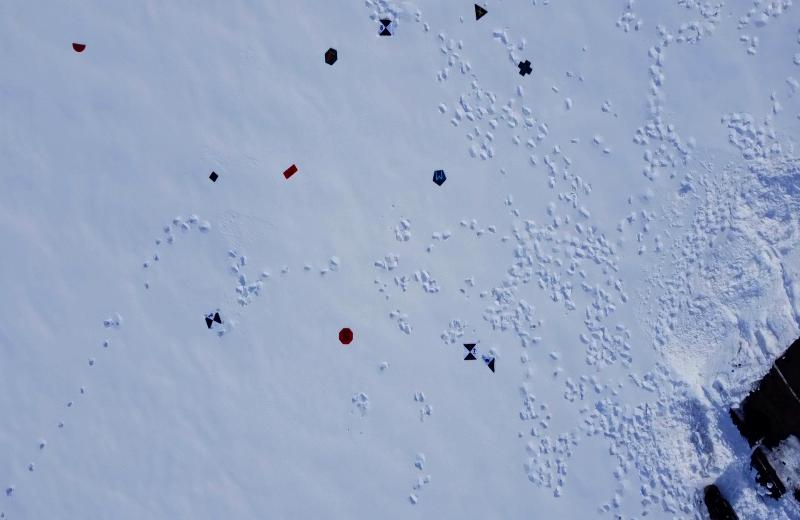Cross: (517, 59, 534, 77)
Hexagon: (324, 48, 340, 66)
Octagon: (338, 327, 354, 345)
Pentagon: (431, 169, 447, 187)
Rectangle: (283, 162, 299, 178)
Semi Circle: (70, 41, 88, 53)
Square: (208, 170, 219, 183)
Triangle: (473, 3, 488, 21)
